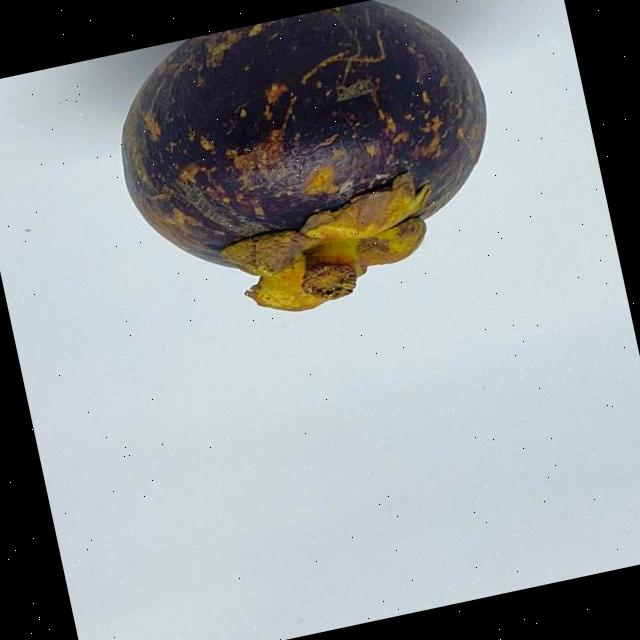mangosteen: (92, 0, 513, 339)
